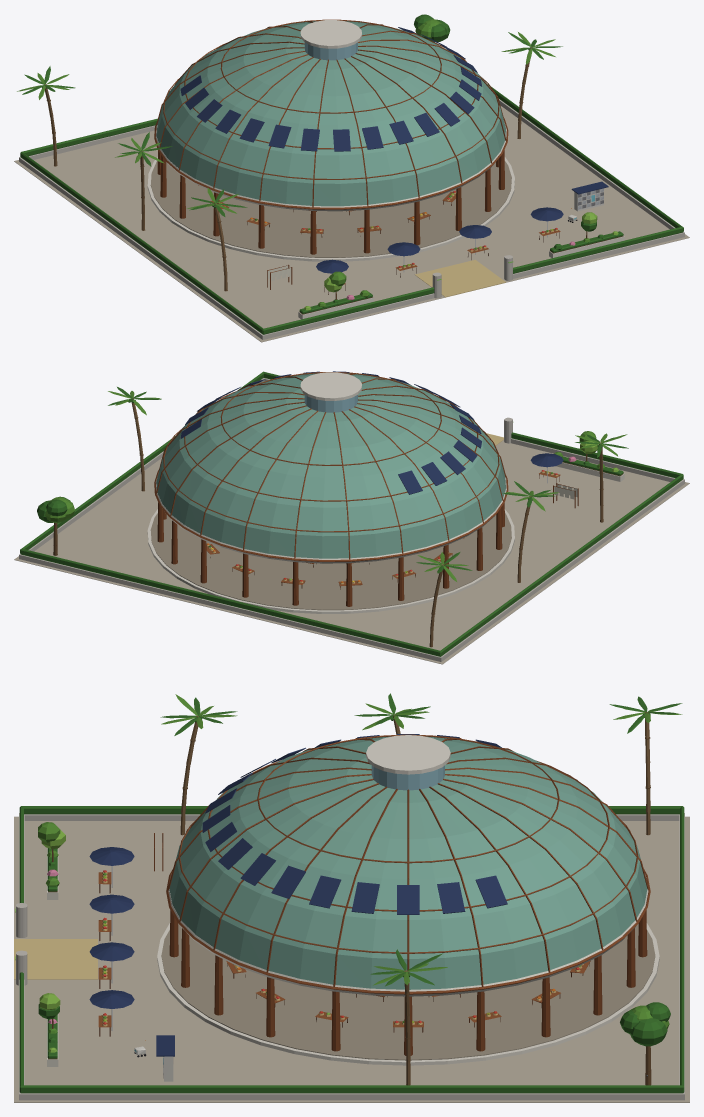
File: market.glb
The picture shows the model from 3 angles, top to bottom: view 1: azimuth 30°, elevation 25°; view 2: azimuth 150°, elevation 25°; view 3: azimuth 270°, elevation 25°; orthographic projection. The views are drawn at different scales.
Visible parts, largest first — view 1: body; view 2: body; view 3: body.
Boxes of the visible parts, x1,y1,x2,y2 form: body: (14,14,689,342); body: (14,371,689,664); body: (14,693,689,1102).
Bounding box in the file's own units: 50.31 × 16.24 × 47.9.
